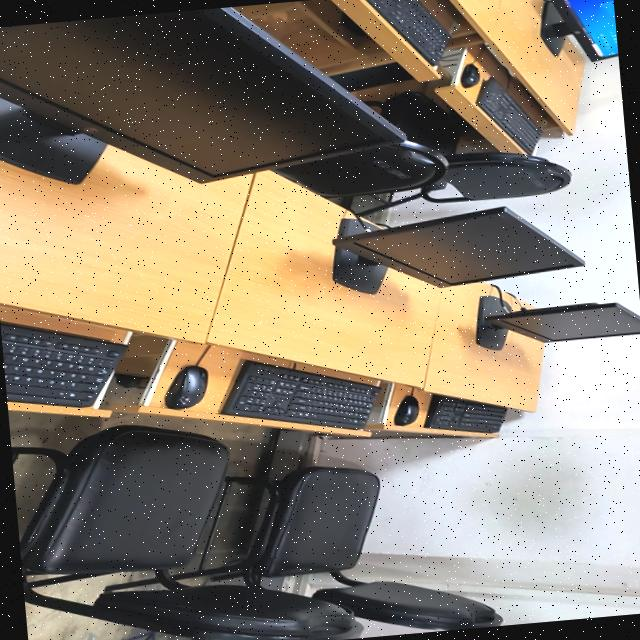Chair: (10, 425, 361, 640), (107, 466, 501, 630), (364, 92, 570, 202), (271, 144, 444, 197)
Keyboard: (0, 322, 126, 407), (221, 361, 377, 429), (364, 0, 450, 66), (476, 77, 541, 154), (424, 395, 506, 433)
Monitor: (0, 7, 403, 184), (331, 207, 583, 293), (476, 296, 640, 350), (540, 0, 618, 61)
Mouse: (164, 365, 207, 409), (393, 395, 418, 426), (460, 63, 478, 87)
